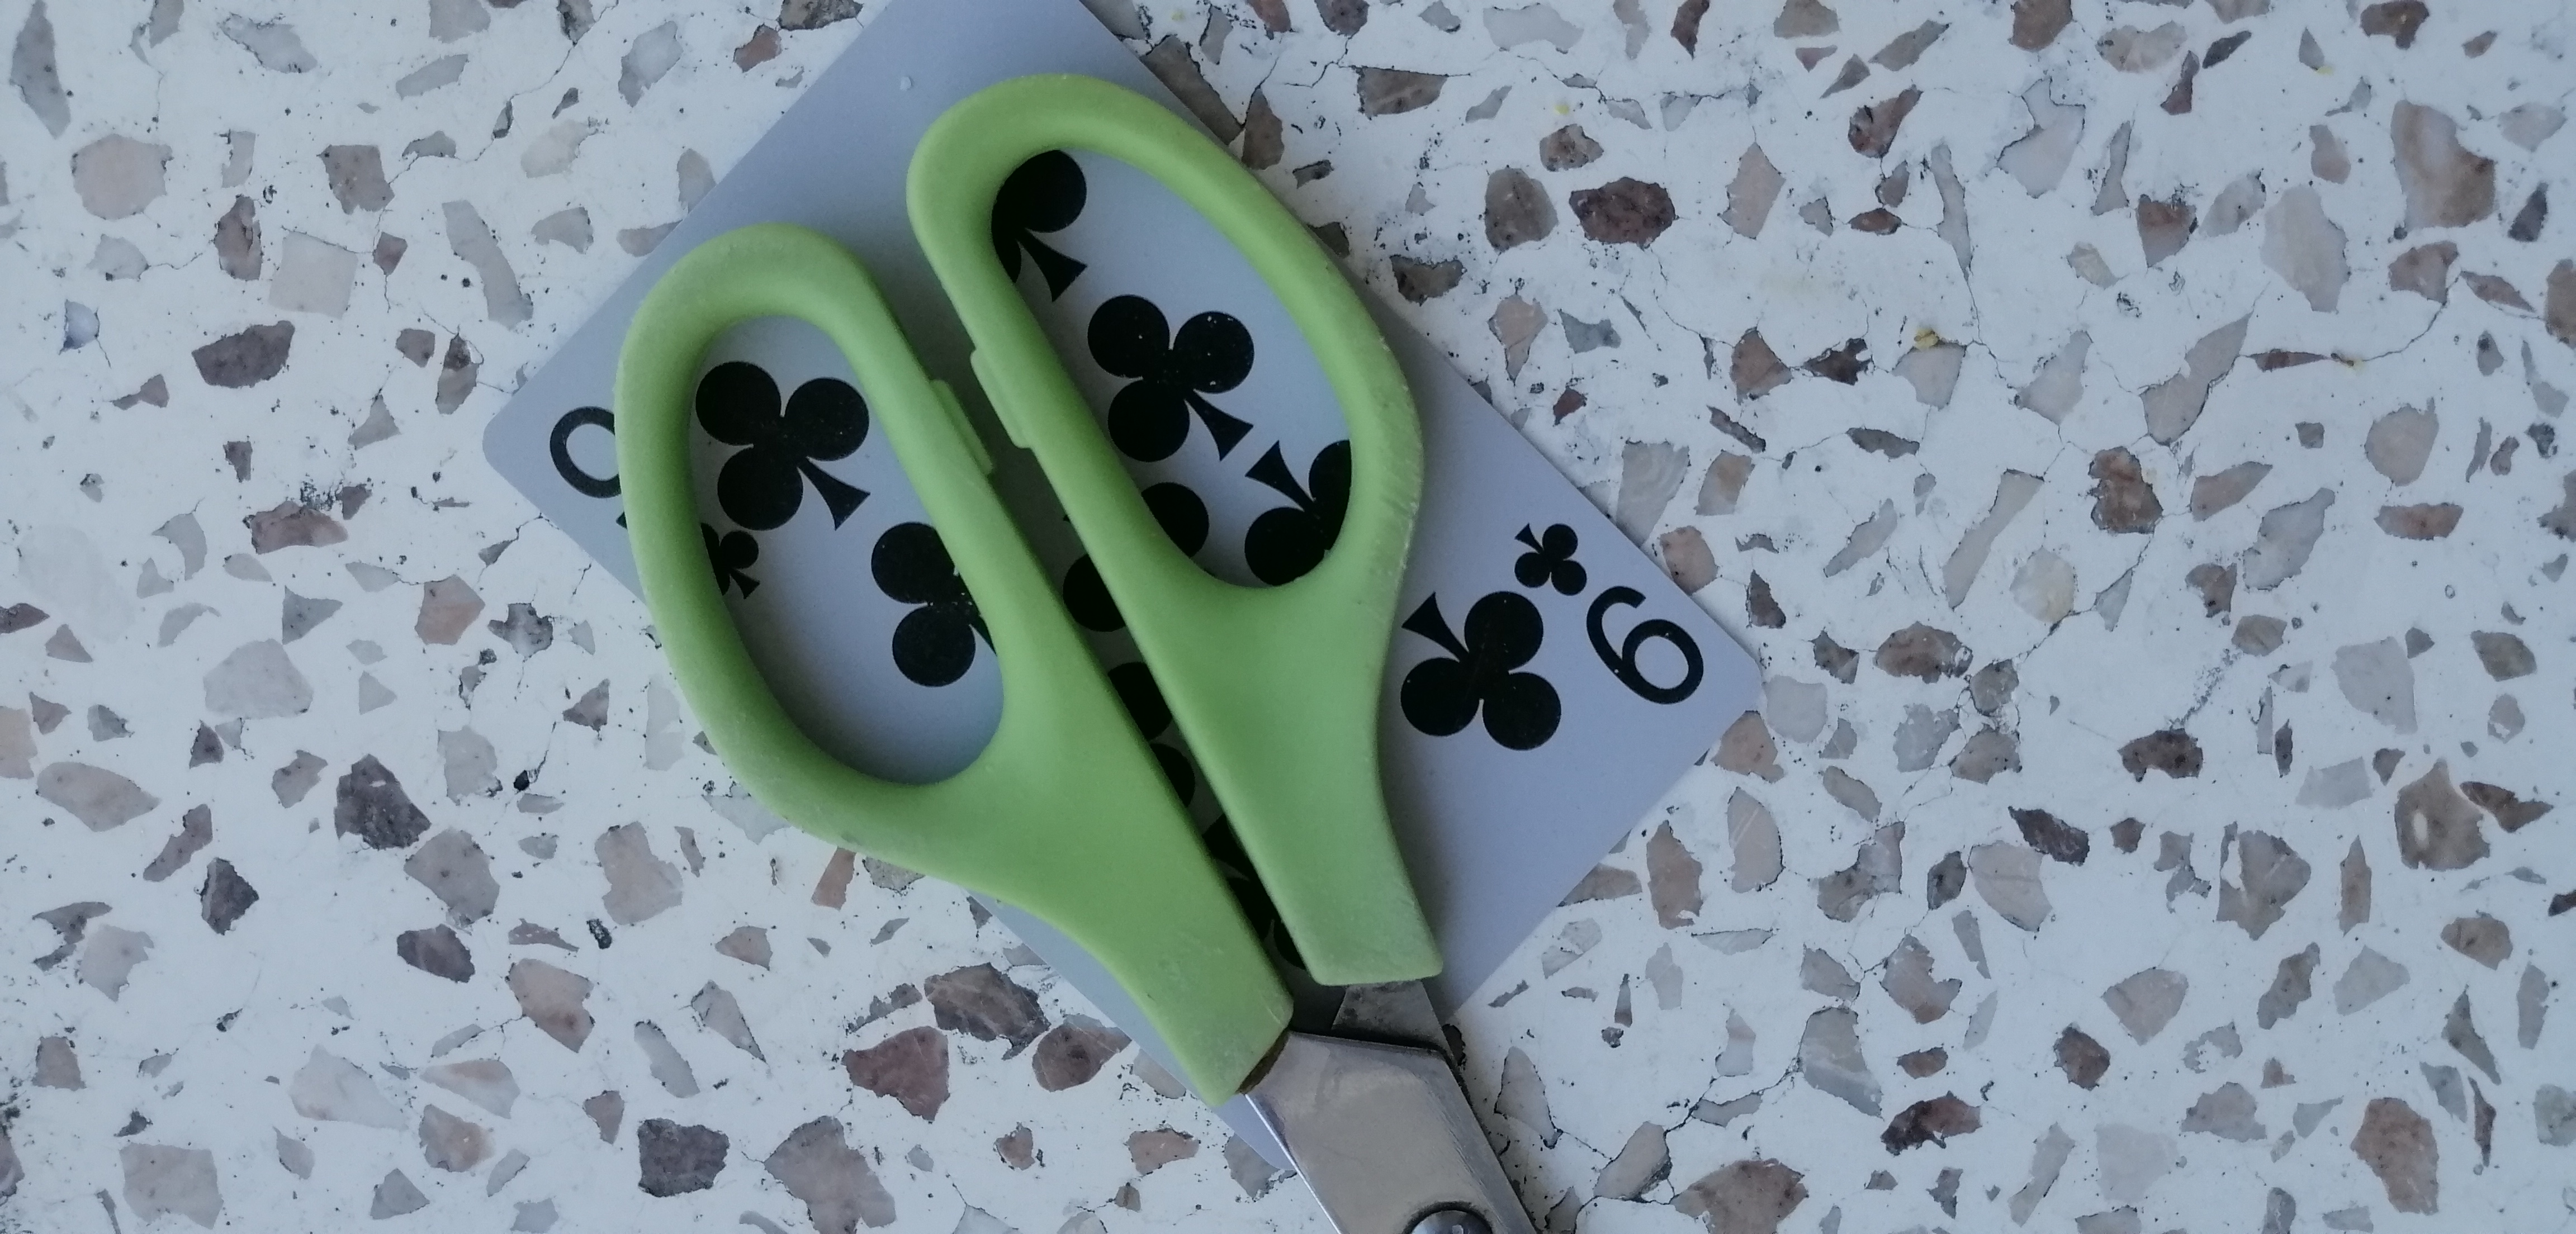nine: (457, 25, 1768, 940)
